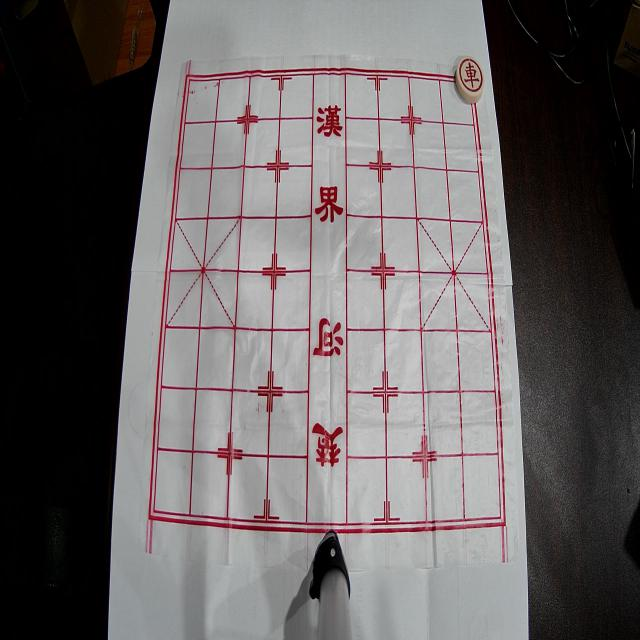red-chariot: (456, 56, 484, 104)
